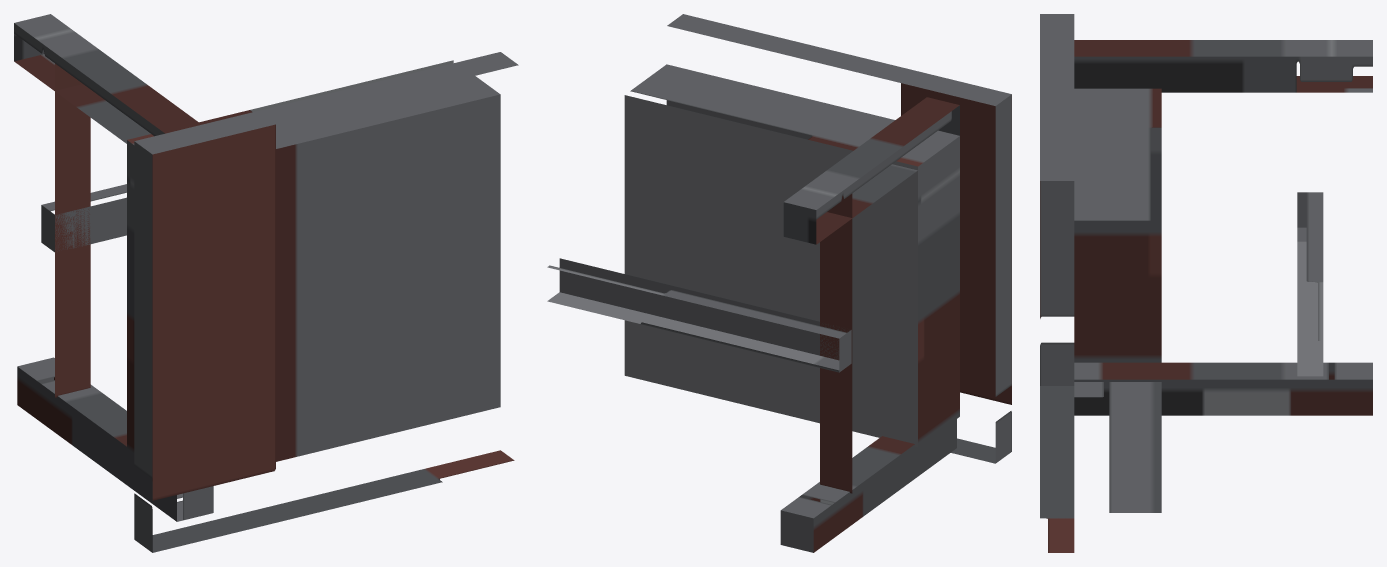
The model's file is section-0.obj.
3 renders of one model, left to right at view 1: azimuth 30°, elevation 25°; view 2: azimuth 150°, elevation 25°; view 3: azimuth 270°, elevation 25°, orthographic. The views are drawn at different scales.
Size of the model in its own units: 0.9266 by 0.963 by 0.7804.
